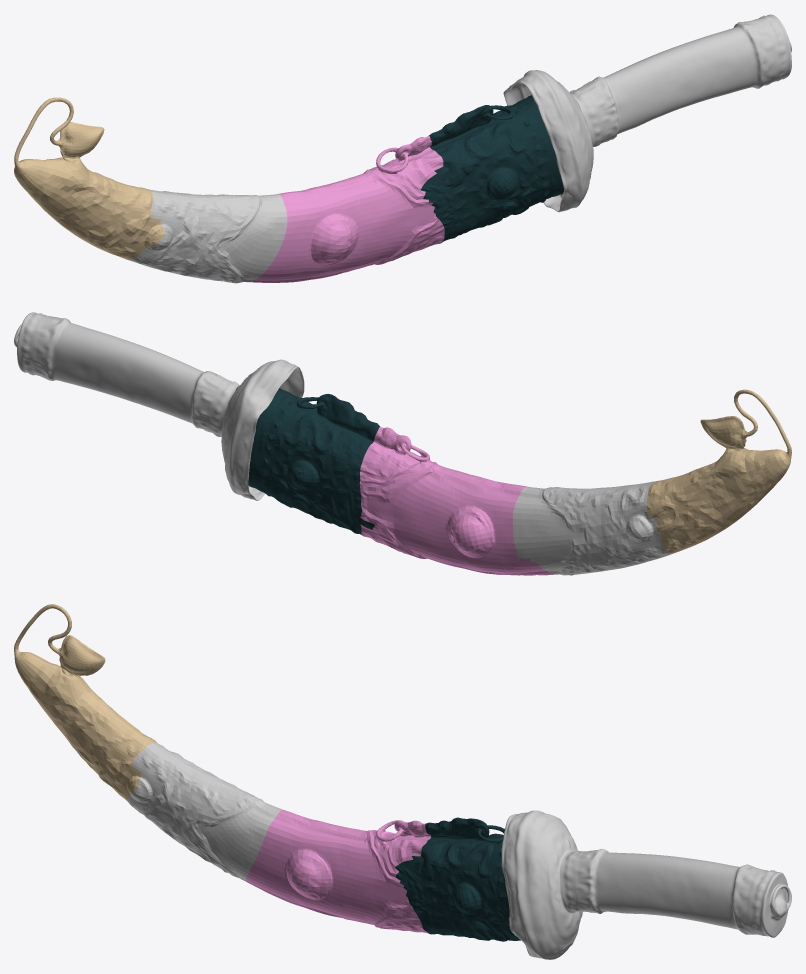
The model's file is yindao.FBX.
3 renders of one model, top to bottom at view 1: azimuth 30°, elevation 25°; view 2: azimuth 150°, elevation 25°; view 3: azimuth 330°, elevation 25°, orthographic.
Visible parts, largest first — view 1: d1, d2; view 2: d1, d2; view 3: d1, d2.
Part boxes in pixels (<box>): d1: <box>14,95,563,283</box>; d2: <box>503,14,791,212</box>; d1: <box>248,388,791,575</box>; d2: <box>14,312,304,500</box>; d1: <box>14,604,520,941</box>; d2: <box>501,810,791,959</box>.
Size of the model in its own units: 4.79 by 1.46 by 0.5603.
